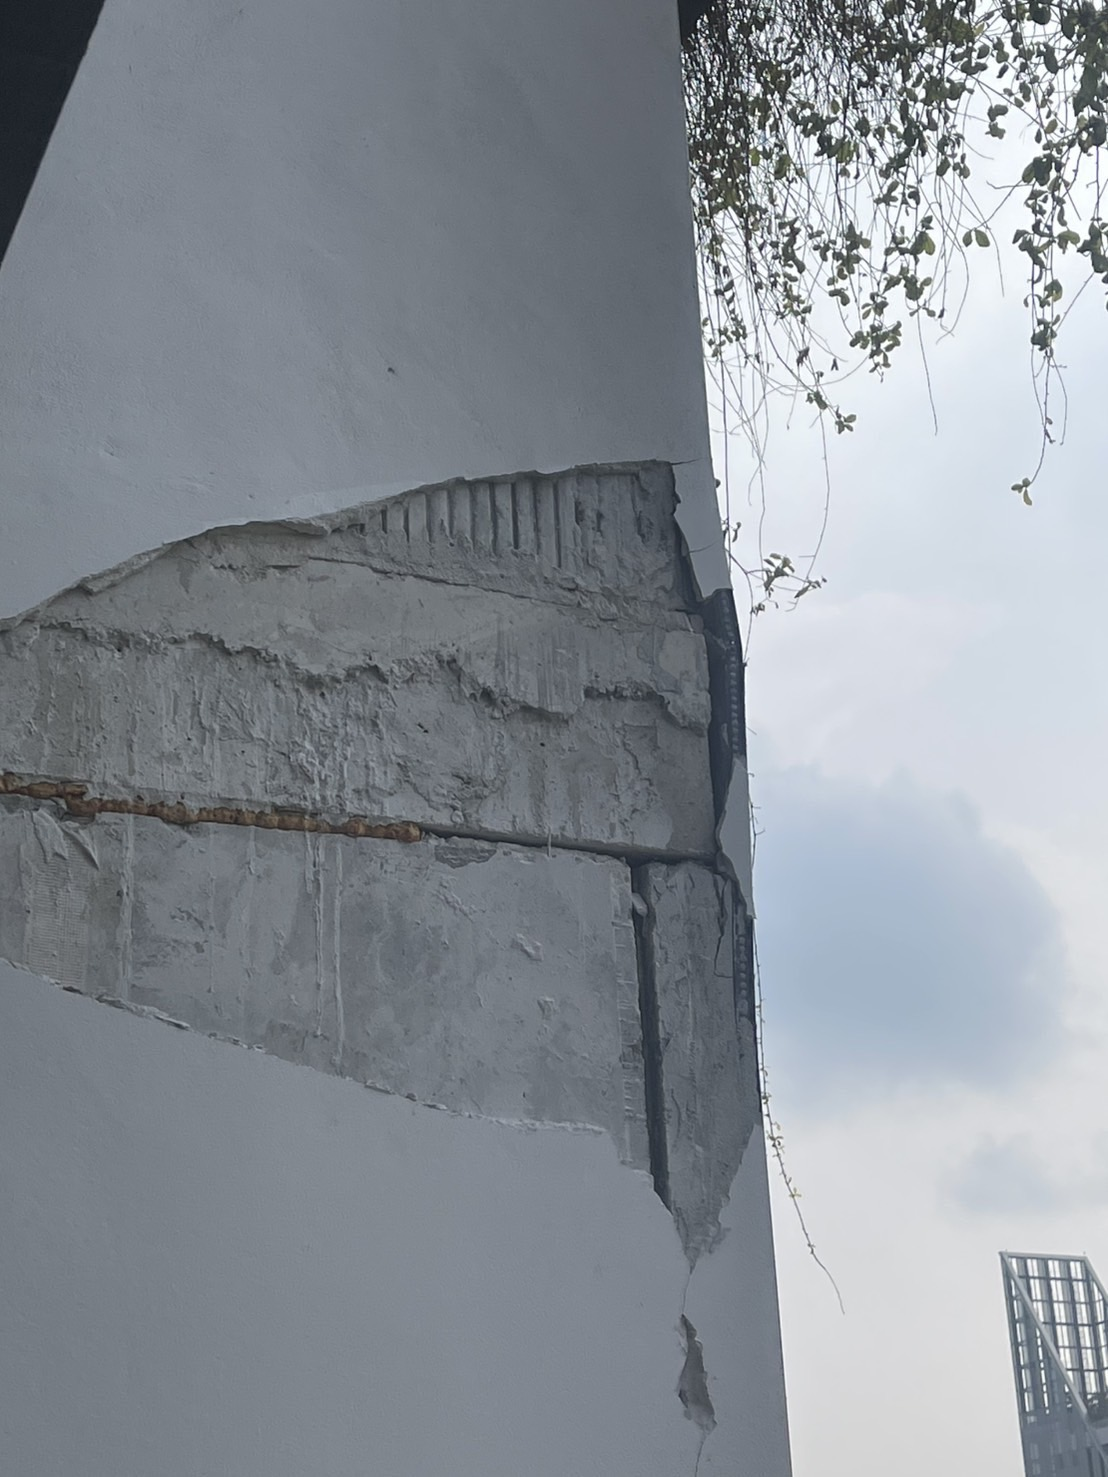High: (6, 421, 797, 1475)
